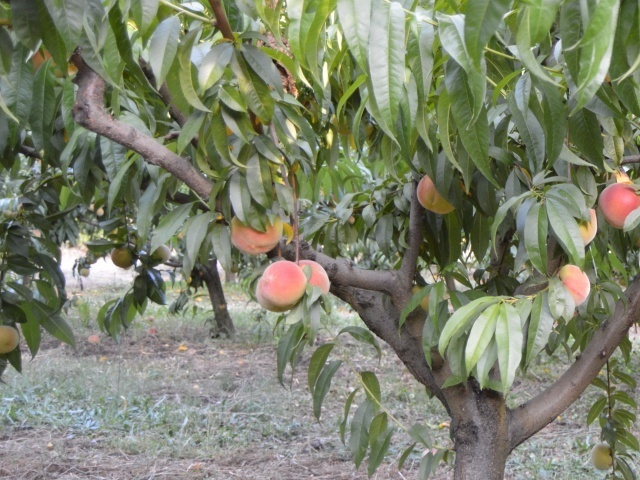peach: (223, 203, 287, 259), (256, 259, 309, 311), (413, 170, 465, 219), (597, 176, 640, 232), (552, 262, 596, 309), (291, 254, 334, 301), (565, 202, 603, 245), (587, 440, 617, 472), (1, 320, 22, 361), (109, 242, 136, 272), (148, 242, 173, 269)
